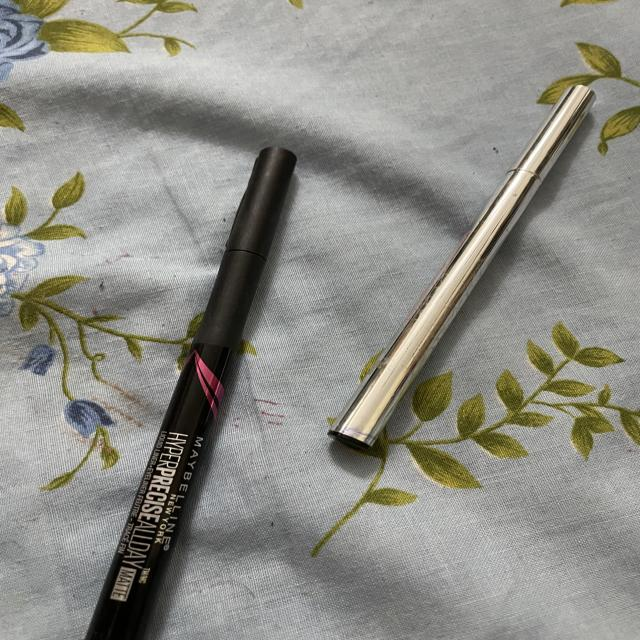eye liner: (70, 132, 308, 640), (316, 62, 600, 454)
